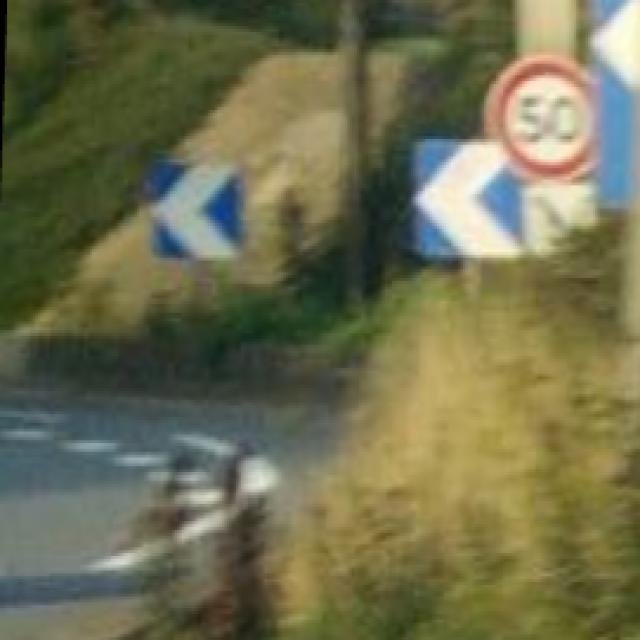speed_50: (503, 61, 599, 174)
